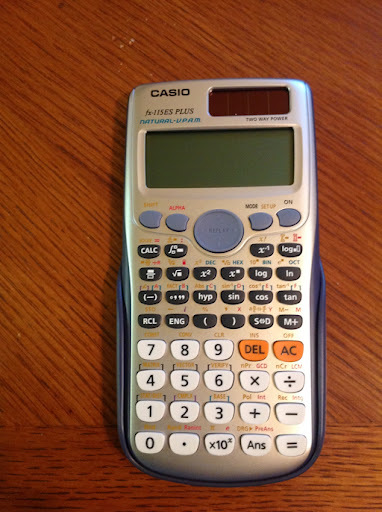Calculator: (113, 76, 327, 490)
